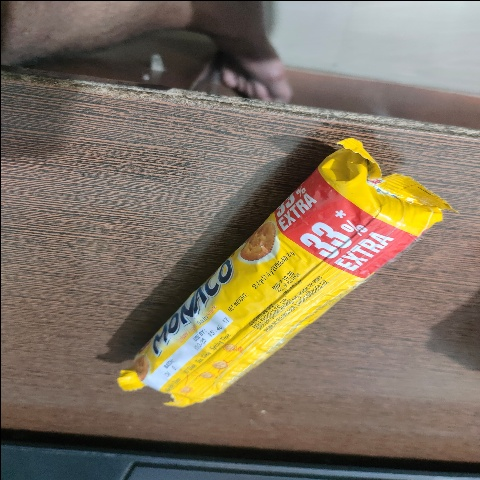monaco: (79, 118, 460, 419)
